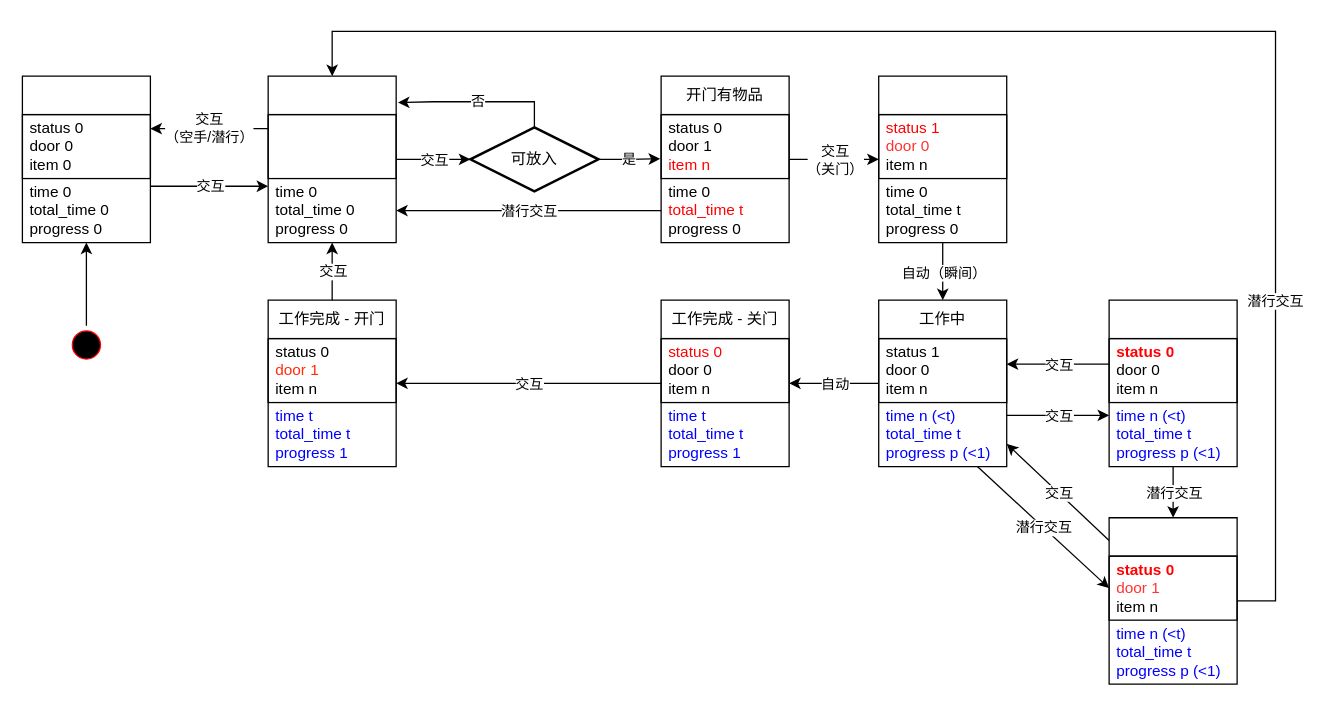
The diagram is 1325 pixels wide and 707 high, and some of its shapes have lost their labels. The box of each missing label's shape, as (x1, y1, x2, y2) in pixels:
*关门有物品: (877, 75, 1007, 243)
status 0 door 1 item 0: (267, 113, 396, 179)
关门无物品: (21, 75, 150, 243)
工作暂停 - 关门: (1108, 299, 1237, 467)
工作暂停 - 开门: (1108, 516, 1237, 684)
开门无物品: (267, 75, 396, 243)
